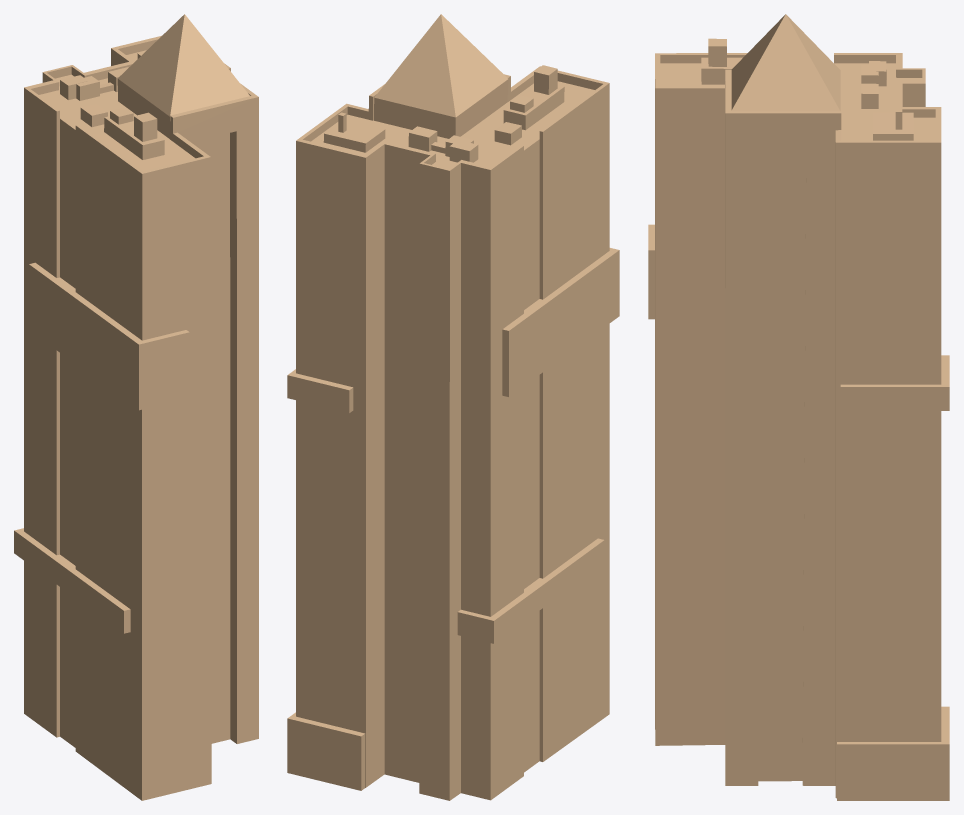
The picture shows the model from 3 angles, left to right: view 1: azimuth 30°, elevation 25°; view 2: azimuth 150°, elevation 25°; view 3: azimuth 270°, elevation 25°; orthographic projection. The views are drawn at different scales.
Visible parts, largest first — view 1: B9_pCube9; view 2: B9_pCube9; view 3: B9_pCube9.
Boxes of the visible parts, <box> form: B9_pCube9: <box>14,14,258,800</box>; B9_pCube9: <box>287,14,619,800</box>; B9_pCube9: <box>648,14,949,800</box>.
Bounding box in the file's own units: 29.46 × 108 × 39.51.
